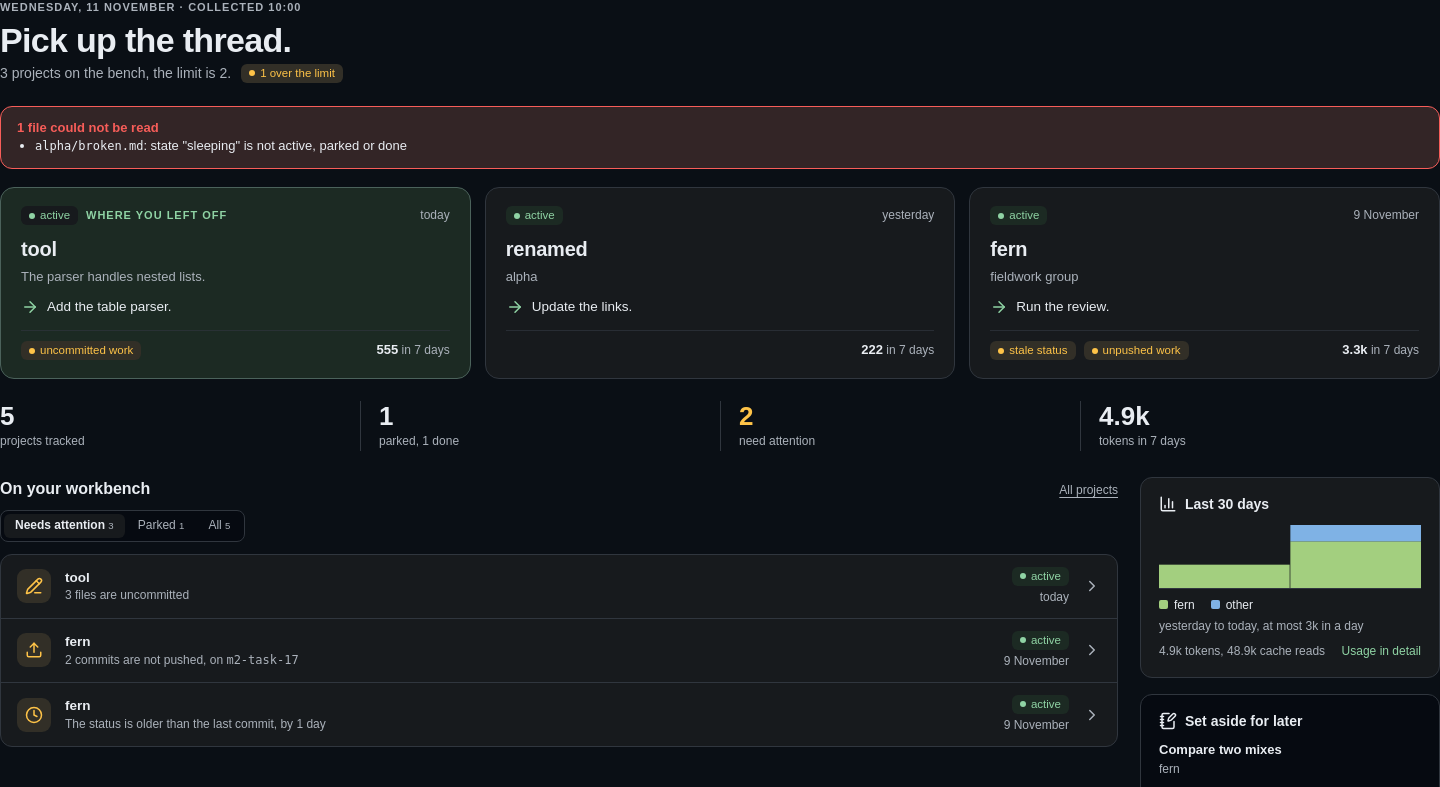
Test: the workbench opens on what needs attention, one row per project and warning
Expected: the heading "Pick up the thread." is shown, x1=0 y1=22 x2=291 y2=59
Expected: the list item "tool 3 files are uncommitted active today" is shown, x1=17 y1=567 x2=1101 y2=604
Click the button "Parked 1". click: {"x": 161, "y": 526}
box: x1=127 y1=514 x2=195 y2=538
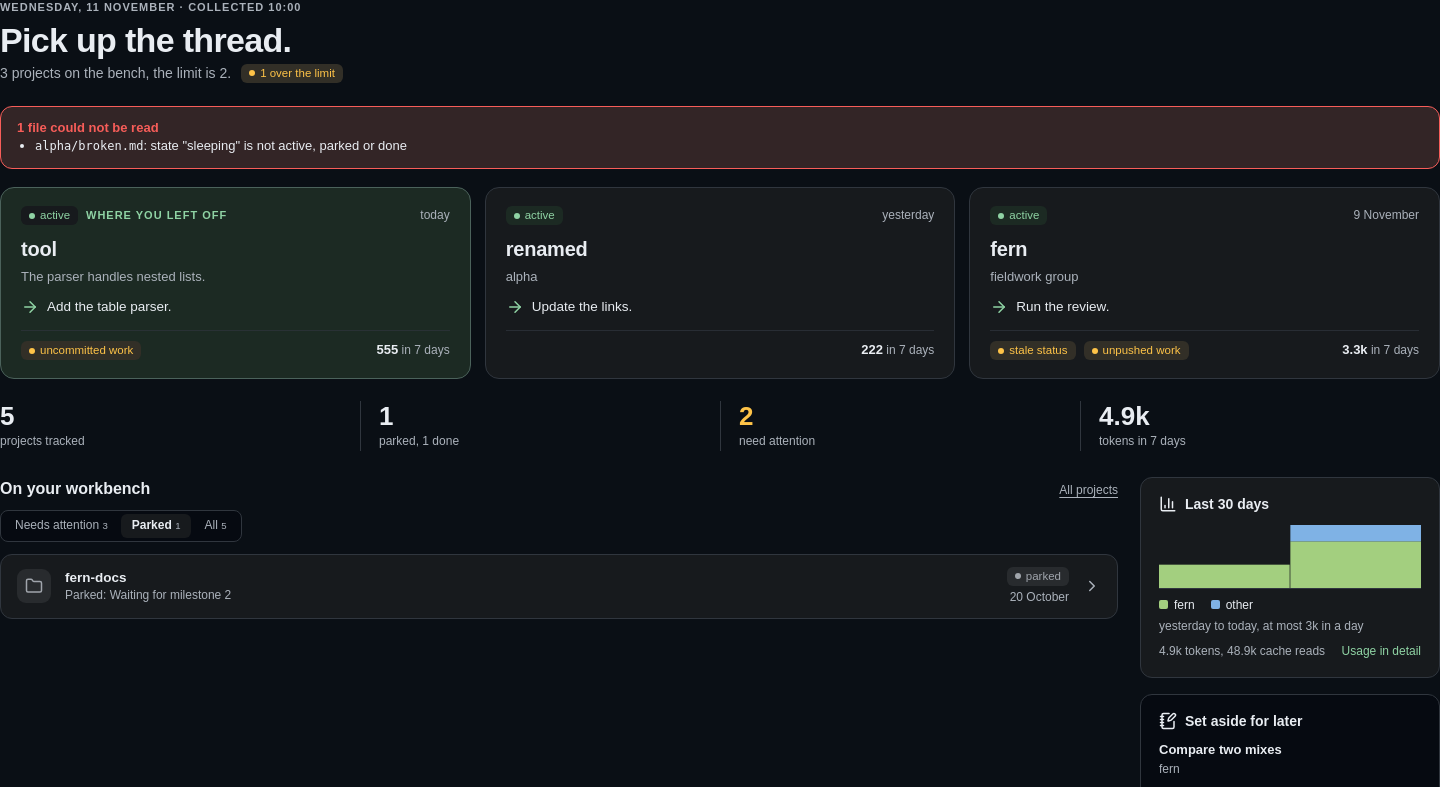
Expected: the list item "fern-docs Parked: Waiting for milestone 2 parked 20 October" is shown, x1=17 y1=567 x2=1101 y2=604
Click the button "All 5". click: {"x": 216, "y": 526}
box: x1=194 y1=514 x2=238 y2=538
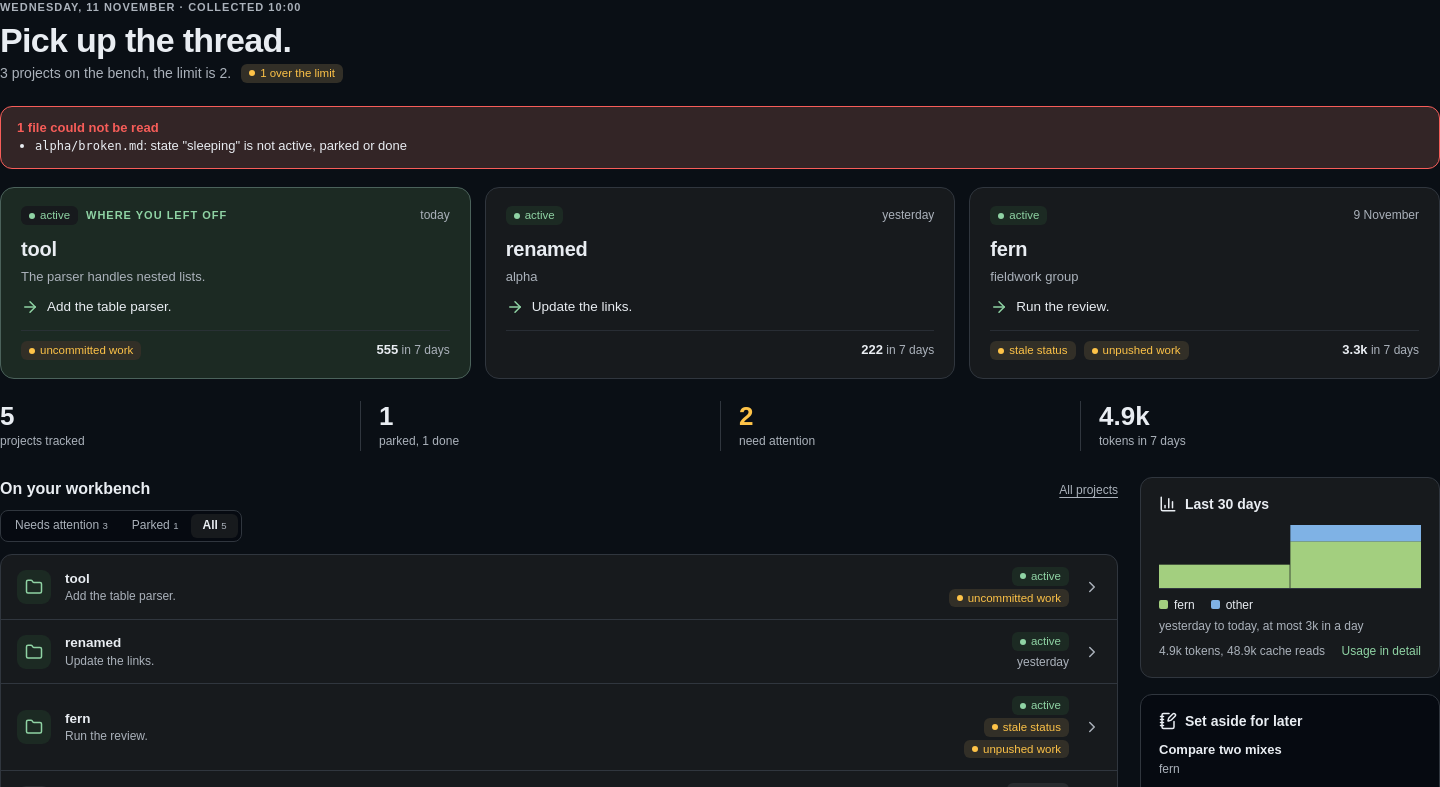
Expected: the list item "tool Add the table parser. active uncommitted work" is shown, x1=1 y1=555 x2=1117 y2=619
